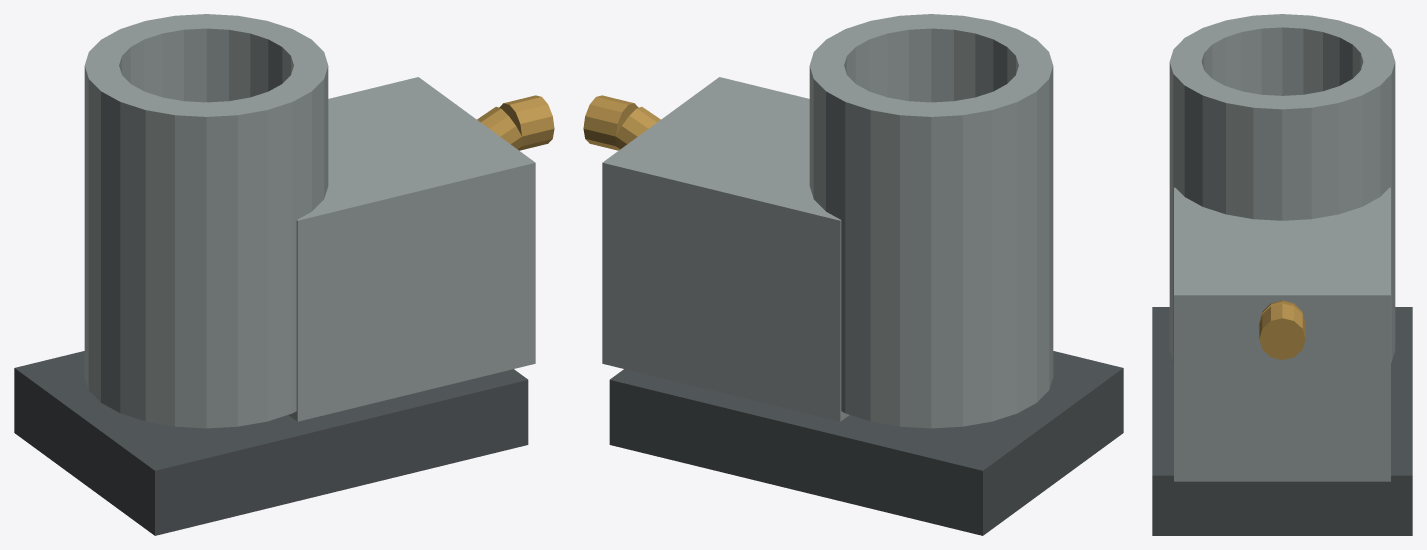
File: ENG_Carburetor.glb
The picture shows the model from 3 angles, left to right: view 1: azimuth 30°, elevation 25°; view 2: azimuth 150°, elevation 25°; view 3: azimuth 270°, elevation 25°; orthographic projection. The views are drawn at different scales.
Visible parts, largest first — view 1: Venturi, FloatBowl, BaseFlange, FuelInlet; view 2: Venturi, FloatBowl, BaseFlange, FuelInlet; view 3: FloatBowl, Venturi, BaseFlange, FuelInlet.
Part boxes in pixels (box(x1,y1,x2,y2)): Venturi: box(84, 14, 328, 428); FloatBowl: box(288, 77, 535, 421); BaseFlange: box(14, 351, 528, 535); FuelInlet: box(477, 95, 554, 150); Venturi: box(809, 14, 1053, 428); FloatBowl: box(602, 77, 849, 421); BaseFlange: box(609, 351, 1123, 535); FuelInlet: box(583, 95, 660, 150); FloatBowl: box(1174, 187, 1390, 481); Venturi: box(1169, 14, 1395, 362); BaseFlange: box(1152, 307, 1412, 535); FuelInlet: box(1259, 300, 1305, 359).
Bounding box in the file's own units: 0.169 × 0.1375 × 0.09.
